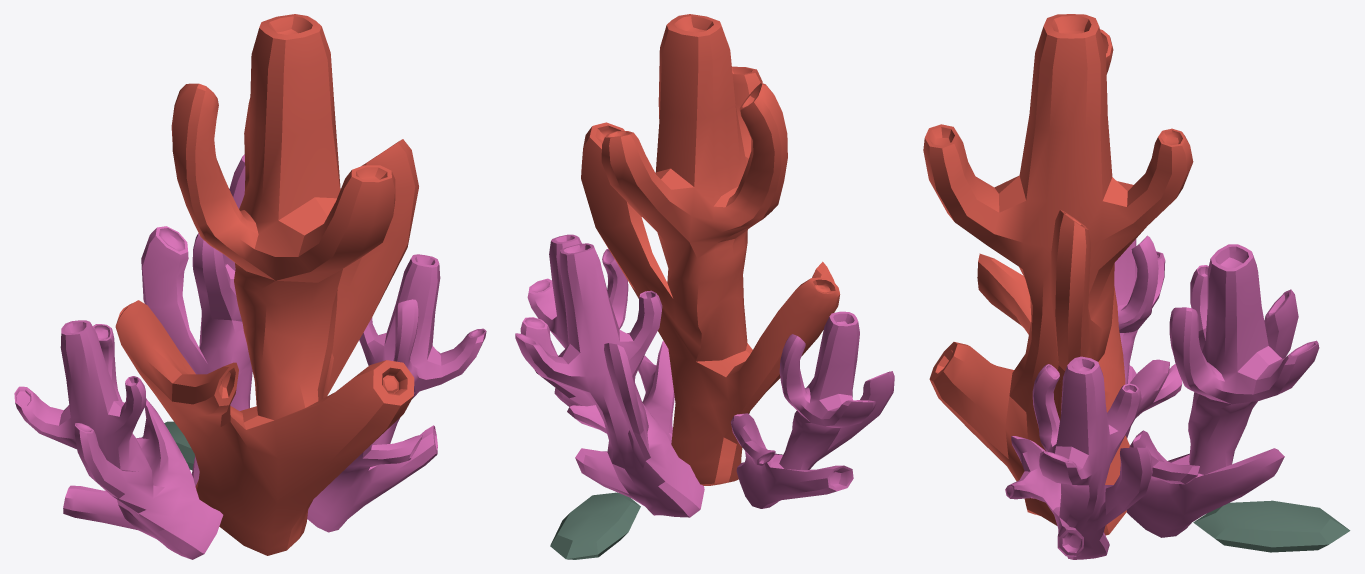
The model's file is coral big 2.fbx.
3 renders of one model, left to right at view 1: azimuth 30°, elevation 25°; view 2: azimuth 150°, elevation 25°; view 3: azimuth 270°, elevation 25°, orthographic. The views are drawn at different scales.
Parts seen in each view (by area): view 1: coral 2, coral 2.002, coral 2.001, coral 2.003; view 2: coral 2, coral 2.003, coral 2.002, coral 2.001, coral 2.004; view 3: coral 2, coral 2.003, coral 2.001, coral 2.002, coral 2.004.
Boxes of the visible parts, left/top/right/bottom form: coral 2: left=115, top=14, right=418, bottom=555; coral 2.002: left=14, top=320, right=223, bottom=559; coral 2.001: left=307, top=254, right=486, bottom=532; coral 2.003: left=141, top=154, right=252, bottom=486; coral 2: left=581, top=14, right=840, bottom=485; coral 2.003: left=515, top=243, right=704, bottom=517; coral 2.002: left=730, top=311, right=894, bottom=508; coral 2.001: left=520, top=234, right=674, bottom=443; coral 2.004: left=550, top=492, right=640, bottom=559; coral 2: left=923, top=14, right=1193, bottom=535; coral 2.003: left=1126, top=244, right=1319, bottom=537; coral 2.001: left=1005, top=356, right=1152, bottom=559; coral 2.002: left=1114, top=235, right=1182, bottom=438; coral 2.004: left=1193, top=500, right=1350, bottom=552.
Bounding box in the file's own units: 1189 × 1376 × 1030.
